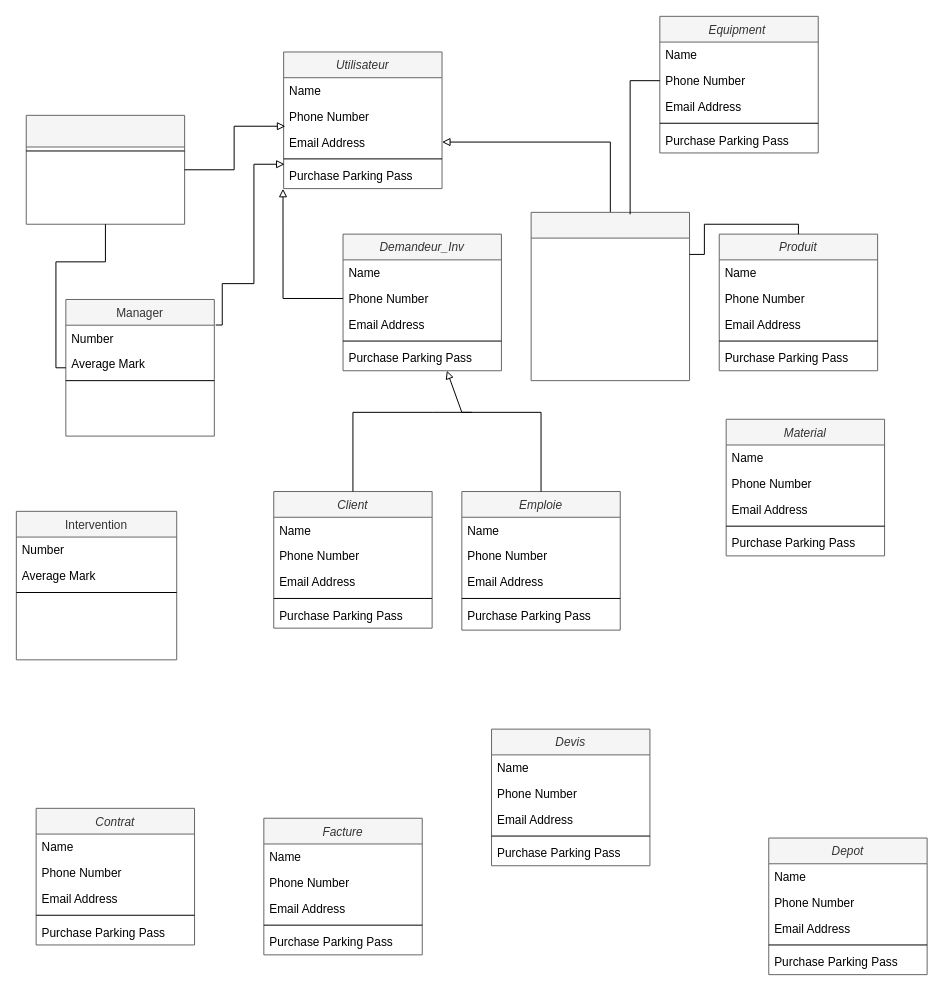
The diagram is 943 pixels wide and 991 high, and some of its shapes have lost their labels. Each missing label, with the centre of its shape:
"Administrateur" goes at point (105, 169).
"Technicien" goes at point (610, 296).
